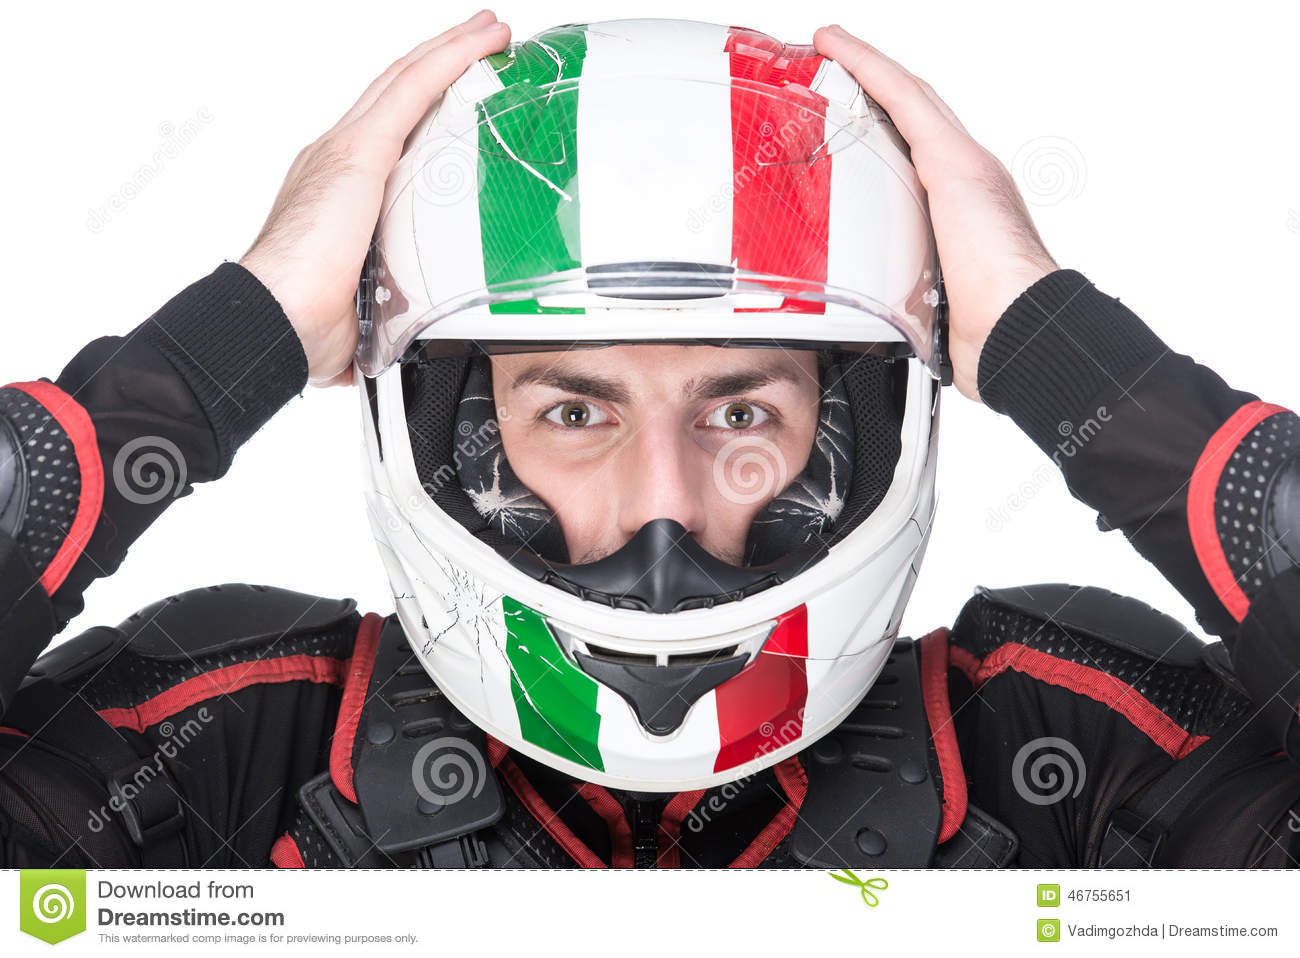helmet: (370, 45, 948, 805)
